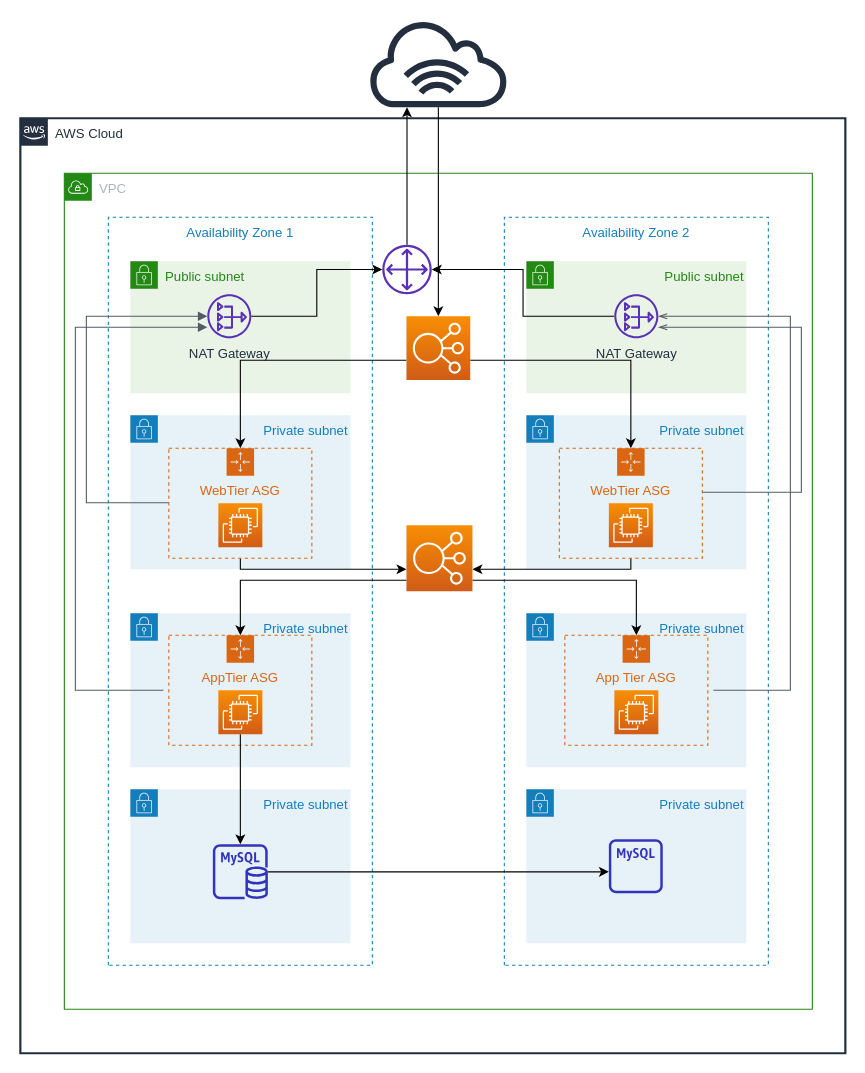
Some shapes in this 865 by 1073 pixel diagram are drawn without their labels. The centre of each missing label's shape, as x and y in pixels:
"External LB" goes at (x=437, y=347).
"Internal LB" goes at (x=438, y=557).
"Multi AZ RDS Instance" goes at (x=239, y=871).
"Multi AZ RDS Standby Instance" goes at (x=635, y=866).
